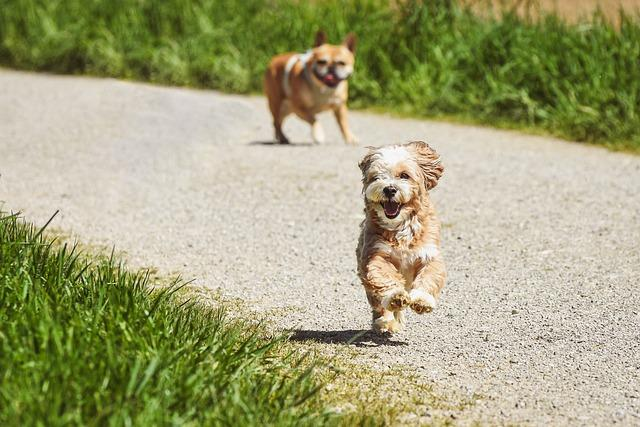Non_Gorille: (192, 2, 536, 350)
